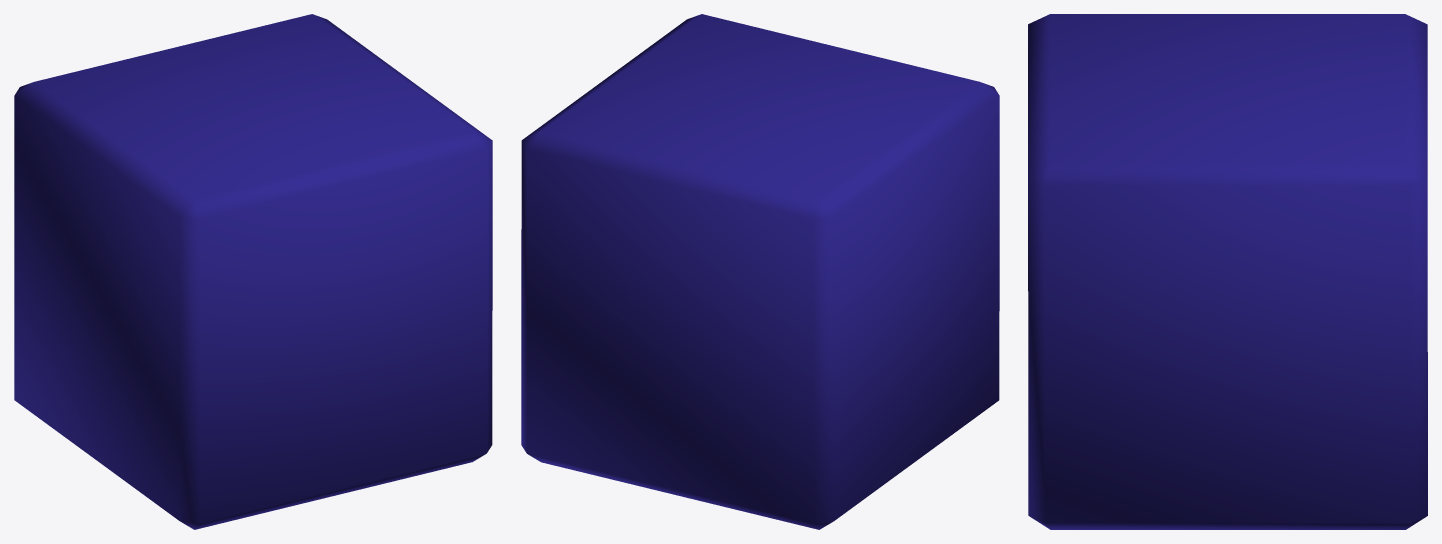
Rendered from rock2.fbx.
3 views of the same model, side by side, from view 1: azimuth 30°, elevation 25°; view 2: azimuth 150°, elevation 25°; view 3: azimuth 270°, elevation 25° (orthographic). The views are drawn at different scales.
Visible parts, largest first — view 1: 2_low; view 2: 2_low; view 3: 2_low.
Part boxes in pixels (left/top/right/bottom): 2_low: left=14, top=14, right=492, bottom=529; 2_low: left=521, top=14, right=999, bottom=529; 2_low: left=1028, top=14, right=1427, bottom=529.
Size of the model in its own units: 49.11 by 49.17 by 49.63.
